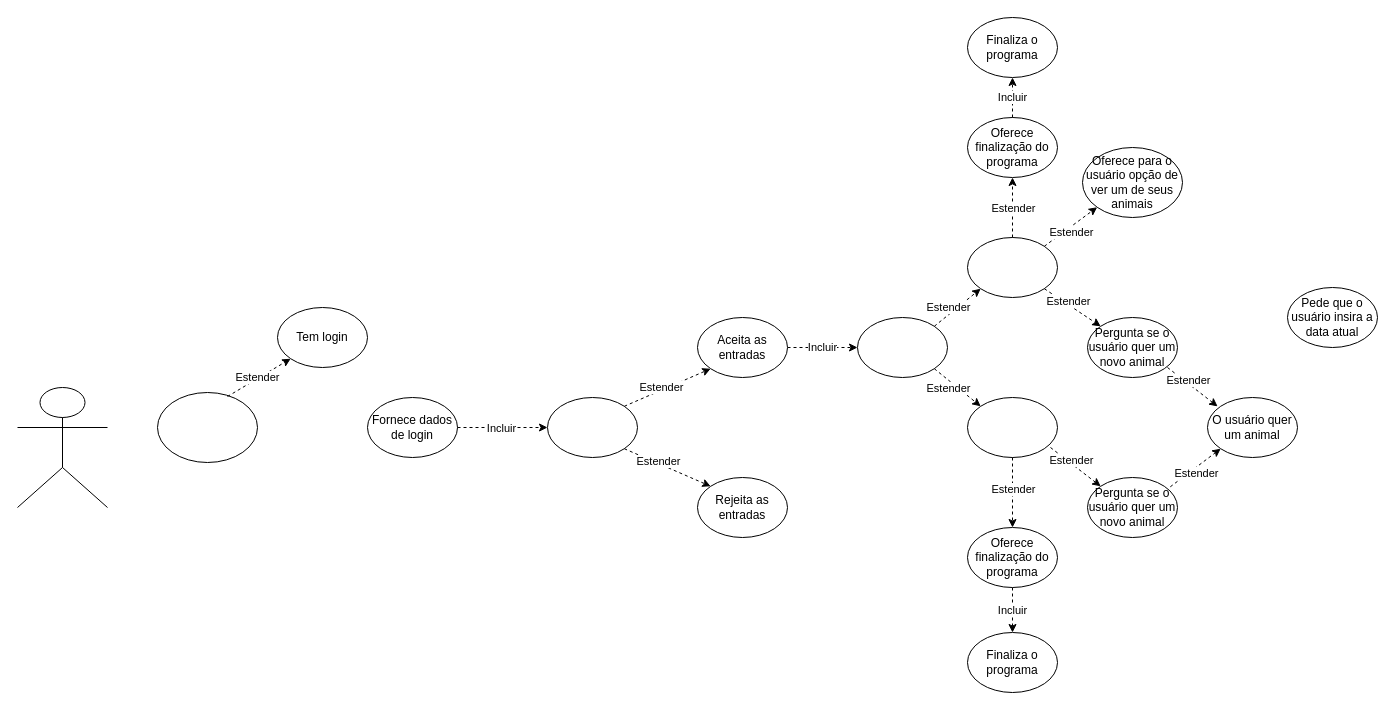
The diagram is 1395 pixels wide and 710 high, and some of its shapes have lost their labels. The shapes that lost their labels are listed below. From the top down, each one's centre as x and y in pixels, then its label:
At [1012,267]: "O usuário tem animais registrados".
At [902,347]: "Olha os animais do usuário".
At [62,447]: "Usuário em casa".
At [207,427]: "Pergunta se tem login ou quer se cadastrar".
At [592,427]: "Verifica as entradas".
At [1012,427]: "O usuário não tem animais registrados".
